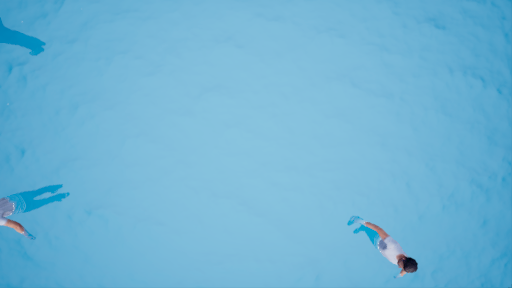person: (353, 211, 435, 278), (1, 174, 70, 234)
